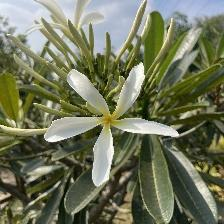champaka: (39, 62, 182, 191)
